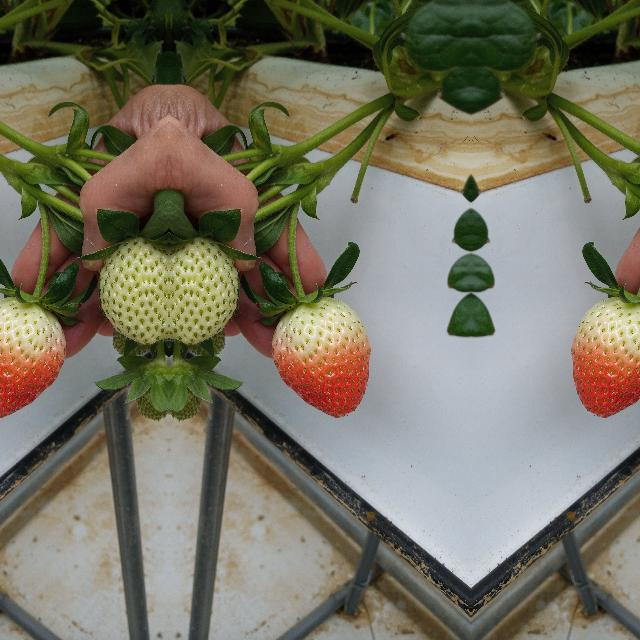Health_25: (168, 215, 244, 355), (92, 215, 168, 355)
Health_75: (270, 296, 370, 418), (570, 295, 640, 418), (0, 295, 66, 418)
